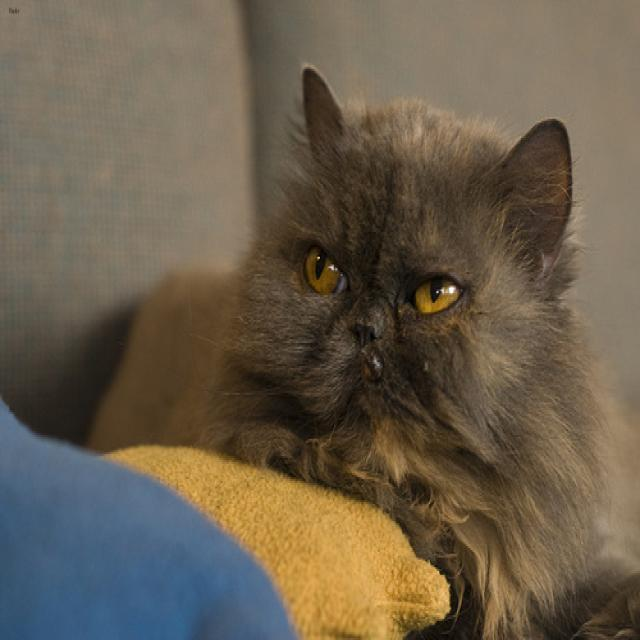Persian: (275, 65, 571, 433)
